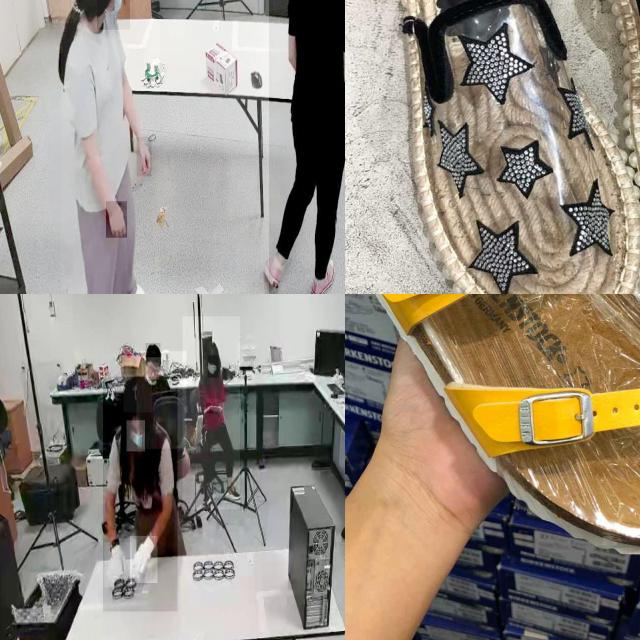Sandals: (345, 294, 640, 576), (362, 0, 640, 294)
face_mask: (97, 0, 130, 29), (127, 421, 145, 452), (208, 356, 218, 378)
face_nomask: (146, 362, 160, 380)
hand_glove: (130, 536, 158, 584), (104, 542, 132, 588)
hand_noglove: (106, 201, 128, 239), (136, 137, 152, 177), (205, 403, 222, 414), (210, 402, 224, 412)
head_nohelmet: (124, 373, 152, 413), (145, 343, 161, 358), (203, 340, 219, 354)
person: (61, 0, 160, 294), (269, 0, 345, 294), (103, 377, 178, 612), (182, 316, 240, 510), (136, 351, 186, 449)
shoes: (309, 254, 339, 294), (112, 267, 149, 294), (262, 250, 286, 288)
